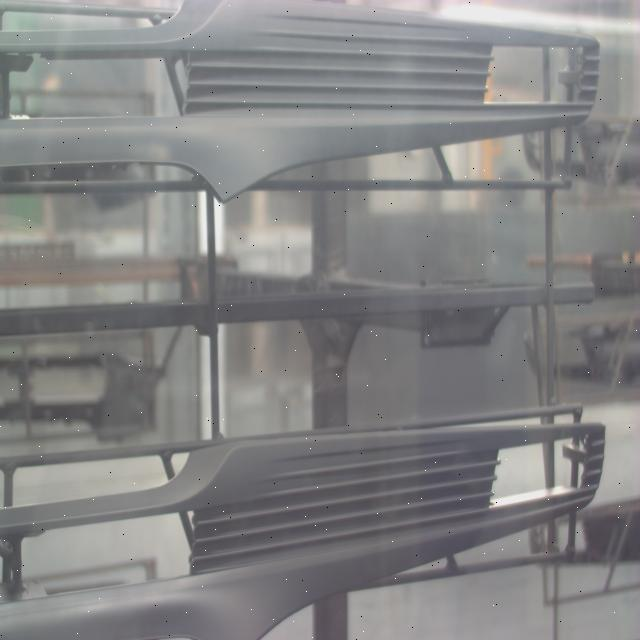Primered: (0, 420, 603, 640), (0, 0, 612, 203)
